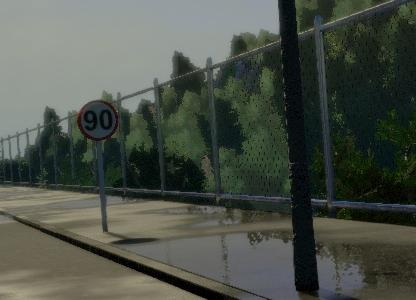Speed_90: (75, 98, 122, 141)
